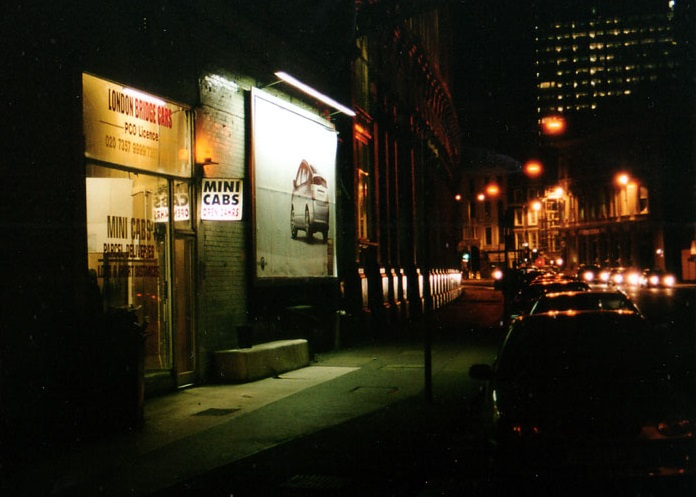car: (467, 302, 693, 484)
